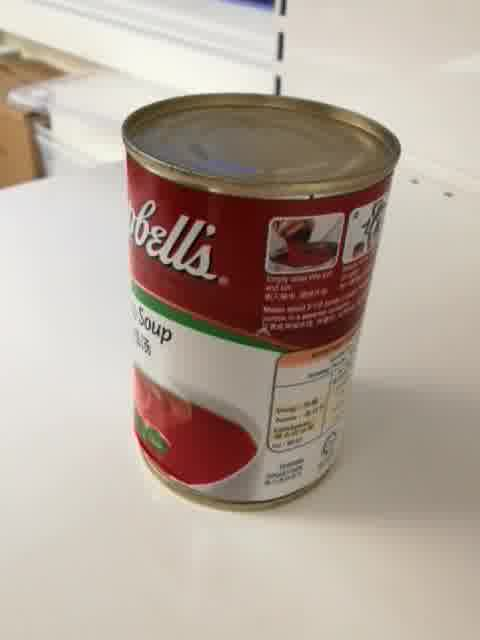tomatosoup: (119, 90, 405, 518)
